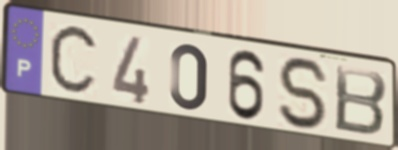0: (168, 42, 210, 114)
4: (109, 33, 152, 106)
6: (226, 48, 267, 124)
B: (332, 63, 390, 139)
C: (46, 22, 101, 99)
S: (275, 55, 332, 133)
